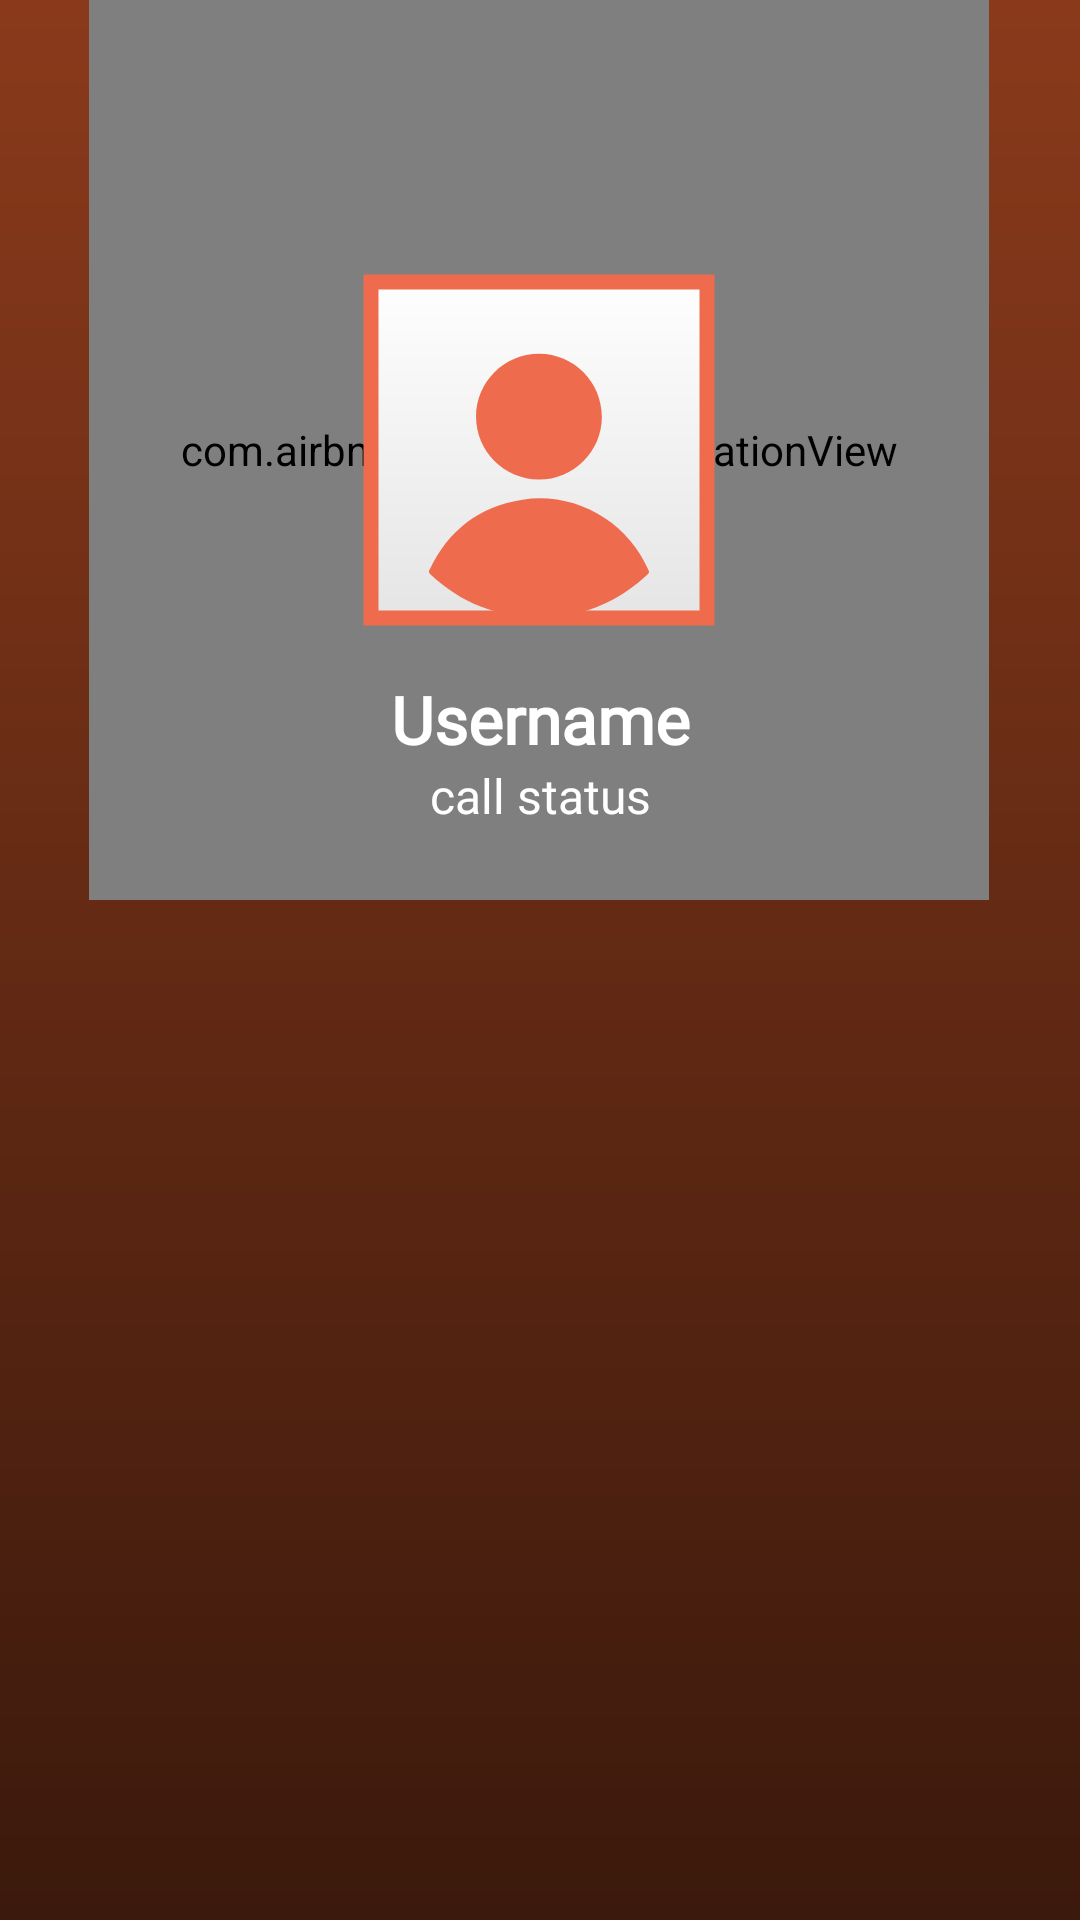

Icons on this 1080w x 1920h Android screen, each with its box as (x1, y1, x2, y2):
enter profile: (359, 274, 719, 626)
